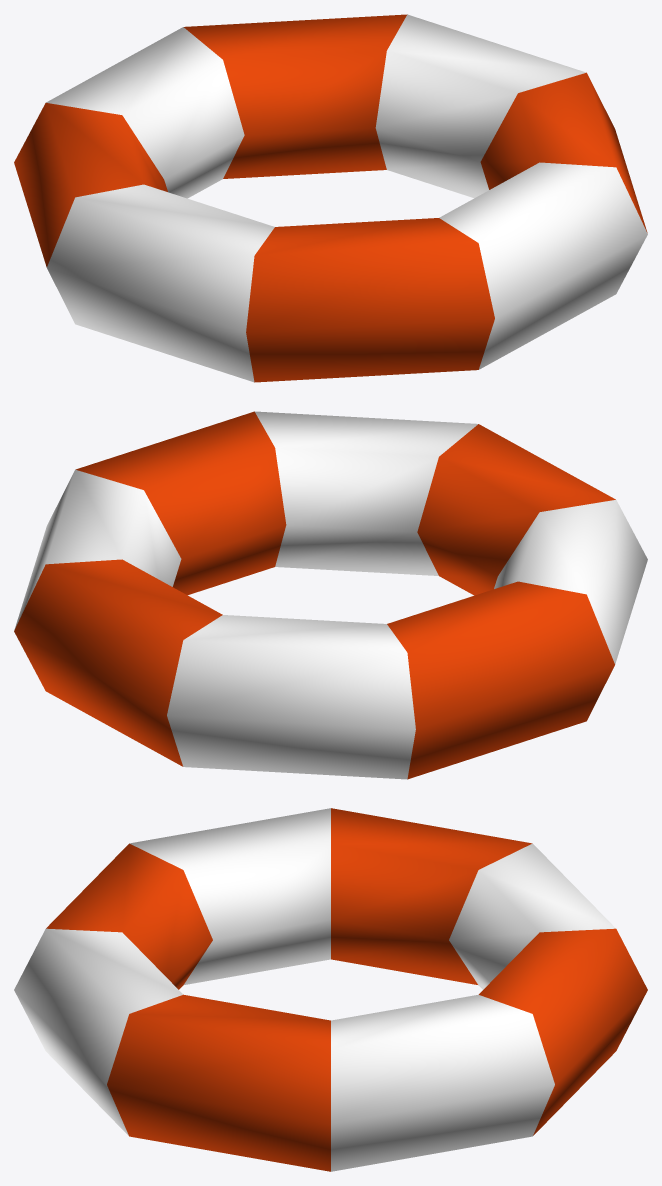
The model's file is lifebuoy.fbx.
3 views of the same model, one above another, from view 1: azimuth 30°, elevation 25°; view 2: azimuth 150°, elevation 25°; view 3: azimuth 270°, elevation 25° (orthographic). The views are drawn at different scales.
Parts seen in each view (by area): view 1: Torus; view 2: Torus; view 3: Torus.
Part boxes in pixels (x1,y1,x2,y2): Torus: [14, 14, 647, 382]; Torus: [14, 411, 647, 779]; Torus: [14, 808, 647, 1171].
Bounding box in the file's own units: 315 × 67.14 × 315.
